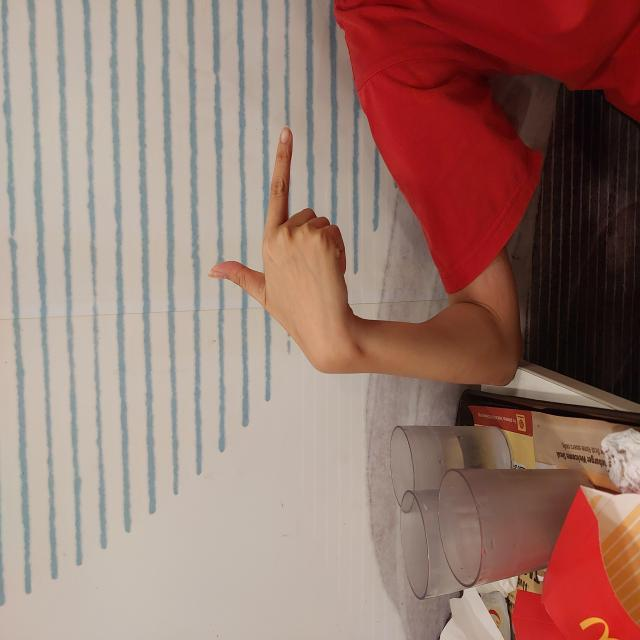G: (264, 206, 517, 352)
